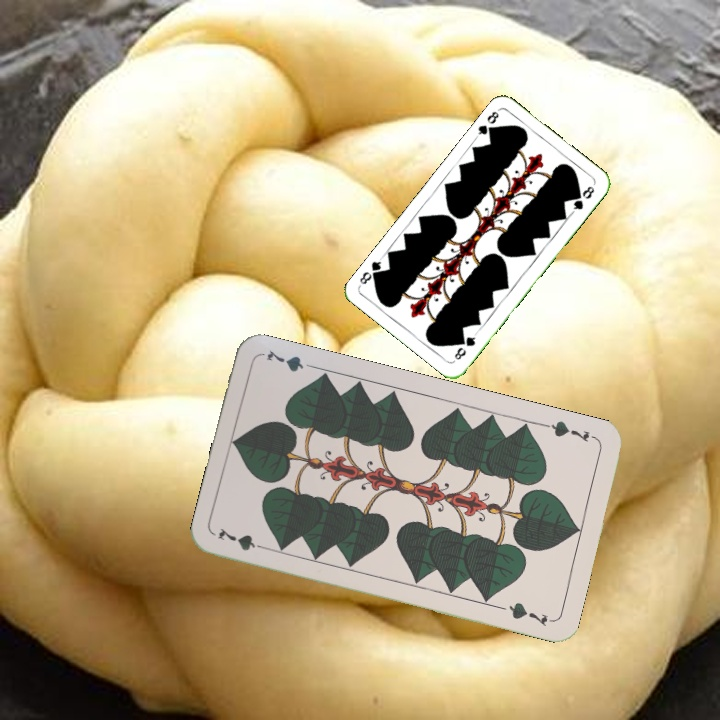G7: (213, 524, 272, 554), (540, 416, 599, 445)
G8: (450, 329, 479, 363), (472, 106, 501, 140)
